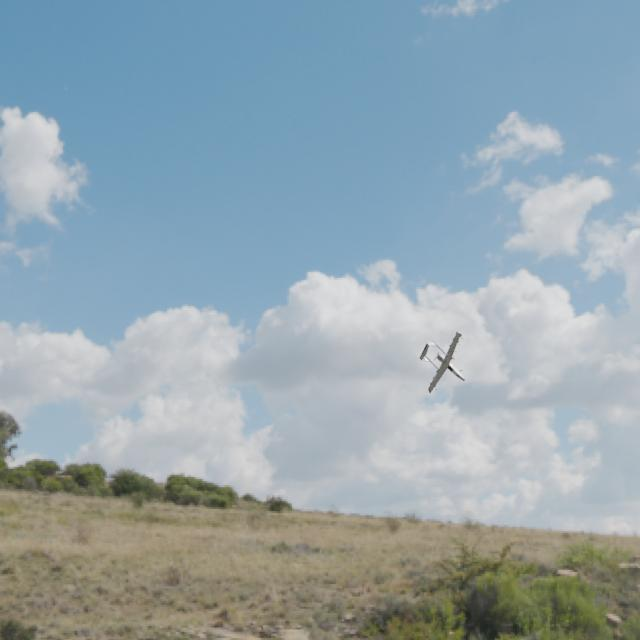Airaplan: (419, 331, 465, 393)
